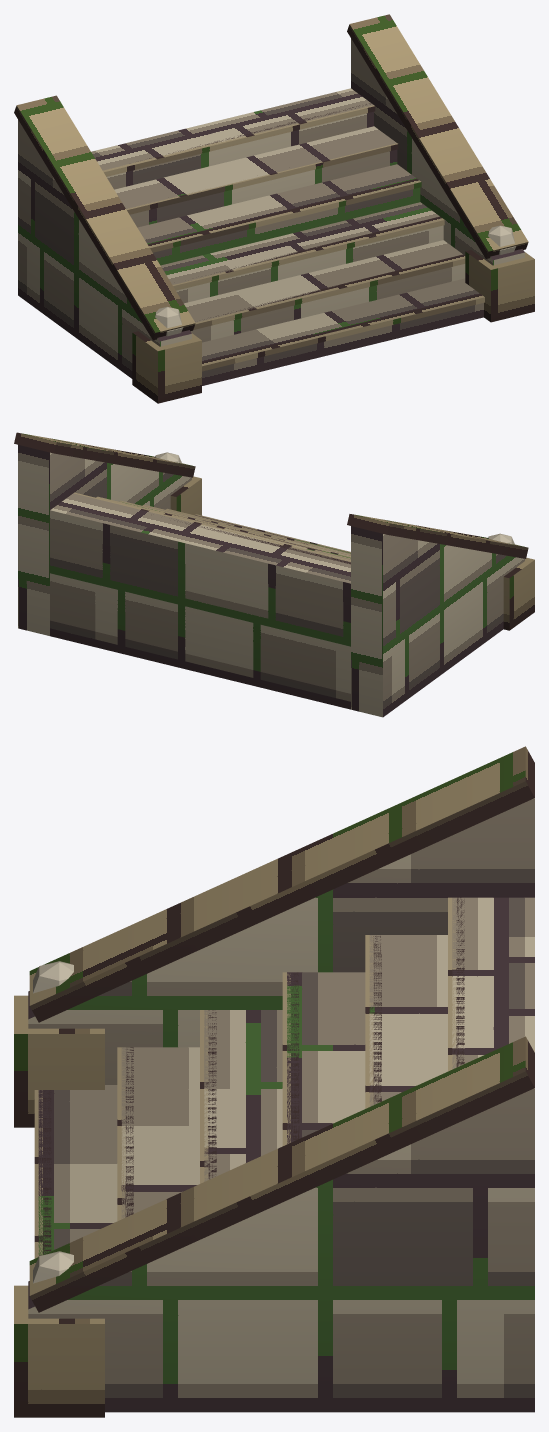
The model's file is scene_stair_nave.glb.
3 views of the same model, one above another, from view 1: azimuth 30°, elevation 25°; view 2: azimuth 150°, elevation 25°; view 3: azimuth 270°, elevation 25° (orthographic). The views are drawn at different scales.
Visible parts, largest first — view 1: scene_stair_nave; view 2: scene_stair_nave; view 3: scene_stair_nave.
Part boxes in pixels (x1,y1,x2,y2): scene_stair_nave: [14, 14, 534, 403]; scene_stair_nave: [14, 432, 534, 717]; scene_stair_nave: [14, 746, 534, 1417].
Bounding box in the file's own units: 3.76 × 1.84 × 2.52.
Materials: 2 (1 with a texture image).
